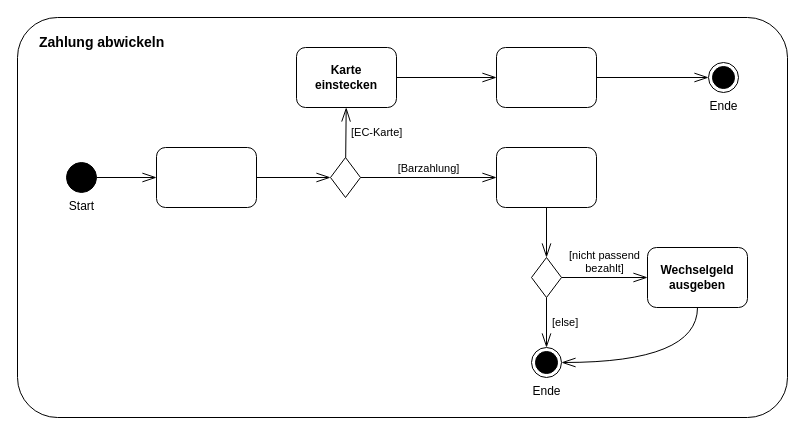
Image size: 805x435. Some labels were removed from this diagram. The shapes that lost their labels are listed below. From the top down, each one's centre as x and y in pixels, then its label:
At pixel 546 77: "PIN eingeben".
At pixel 206 177: "Zahlungart auswählen".
At pixel 546 177: "Geld einwerfen".
